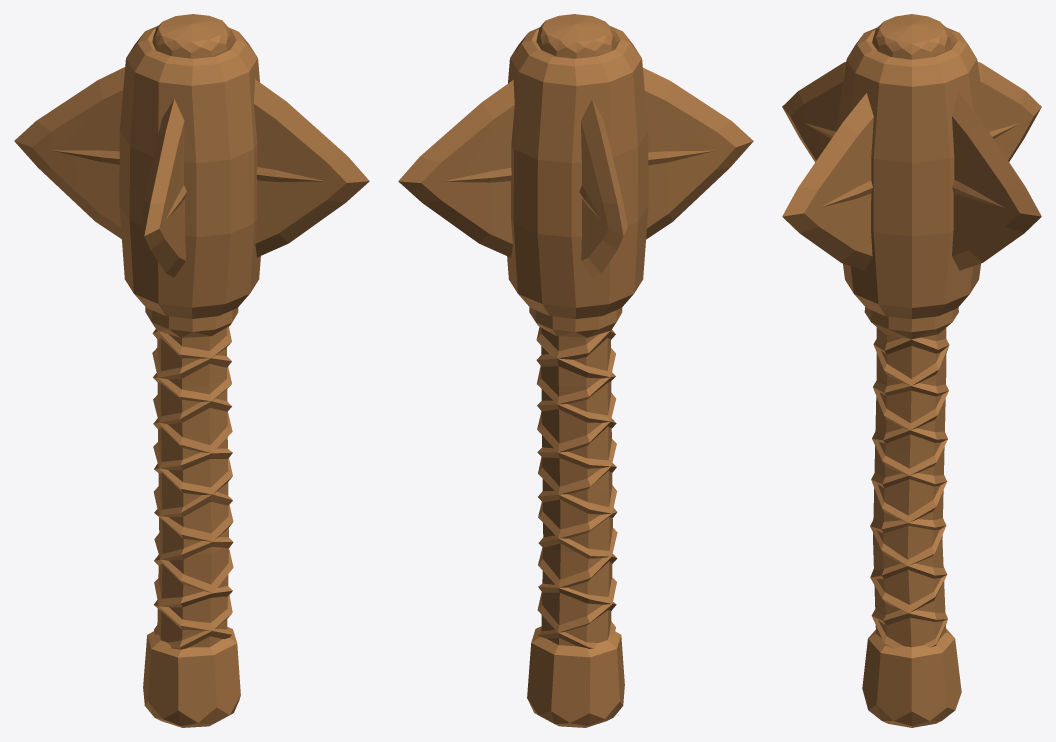
The model's file is Copper_Mace.fbx.
The picture shows the model from 3 angles, left to right: view 1: azimuth 30°, elevation 25°; view 2: azimuth 150°, elevation 25°; view 3: azimuth 270°, elevation 25°; orthographic projection.
Visible parts, largest first — view 1: Copper_Mace; view 2: Copper_Mace; view 3: Copper_Mace.
Part boxes in pixels (left/top/right/bottom): Copper_Mace: left=14, top=14, right=369, bottom=727; Copper_Mace: left=398, top=14, right=753, bottom=727; Copper_Mace: left=782, top=14, right=1041, bottom=727.
Size of the model in its own units: 0.759 by 2.22 by 0.759.
